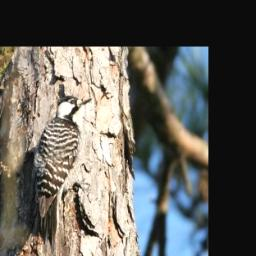Woodpecker: (33, 95, 93, 253)
